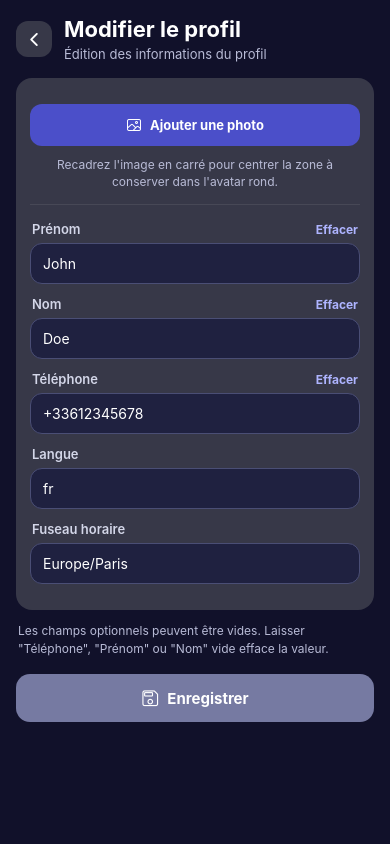
it: ProfileEditScreen › clears phone when "Effacer" is pressed for phone
Click the 3rd text "Effacer": [337, 379] box left=316, top=372, right=358, bottom=386
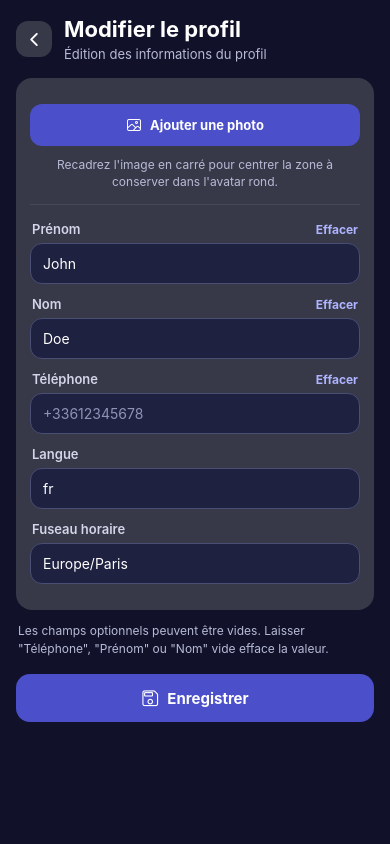
Now the field with test id "input-phone" is empty, box left=30, top=393, right=360, bottom=434
